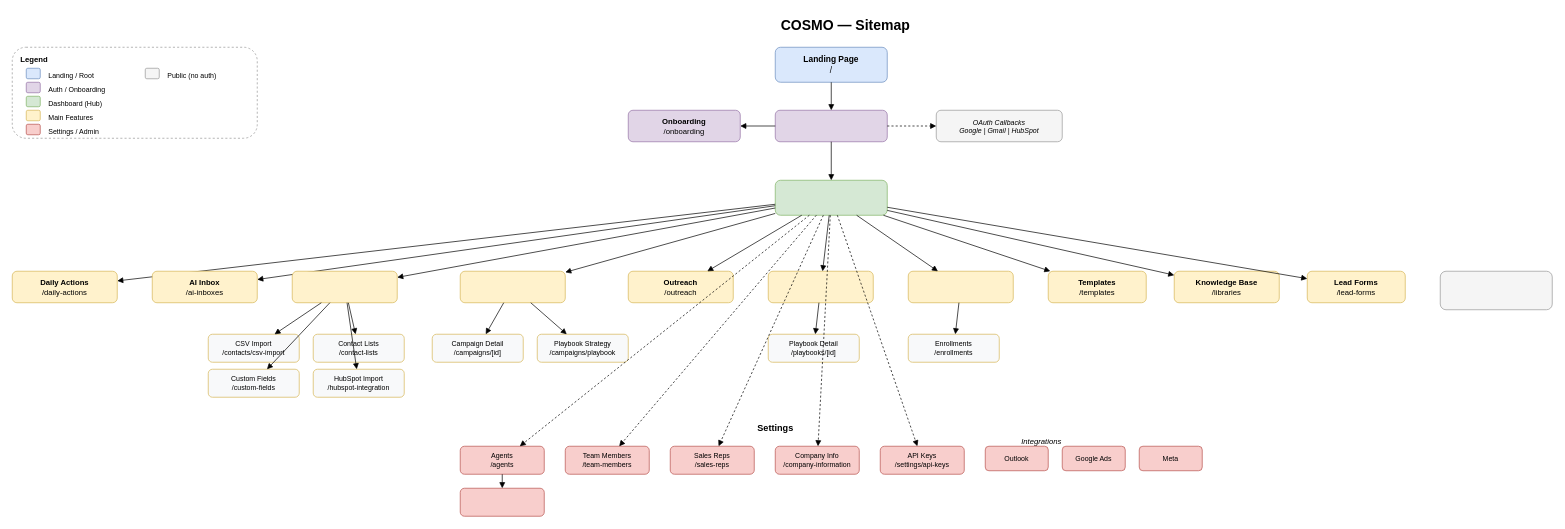
This 1565x529 diagram has some shape labels left out. Each missing label, with the box of its shape:
Agent Detail /agents/[id]: (460, 488, 544, 516)
Automation Rules /automation-rules: (908, 271, 1013, 303)
Campaigns /campaigns: (460, 271, 565, 303)
Contacts /contacts: (292, 271, 397, 303)
Dashboard /dashboard: (775, 180, 887, 215)
Login /auth/login: (775, 110, 887, 142)
Playbooks /playbooks: (768, 271, 873, 303)
Public Lead Form /public/forms/[slug] (No auth required): (1440, 271, 1552, 310)
